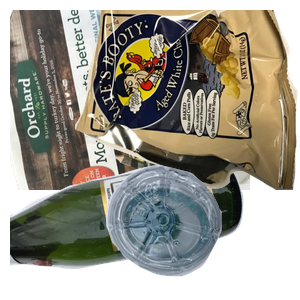glass: (10, 154, 246, 300)
paper: (10, 10, 250, 190)
plastic: (104, 163, 300, 300)
trash: (75, 10, 300, 190)
